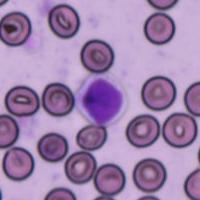L: (74, 71, 128, 127)
